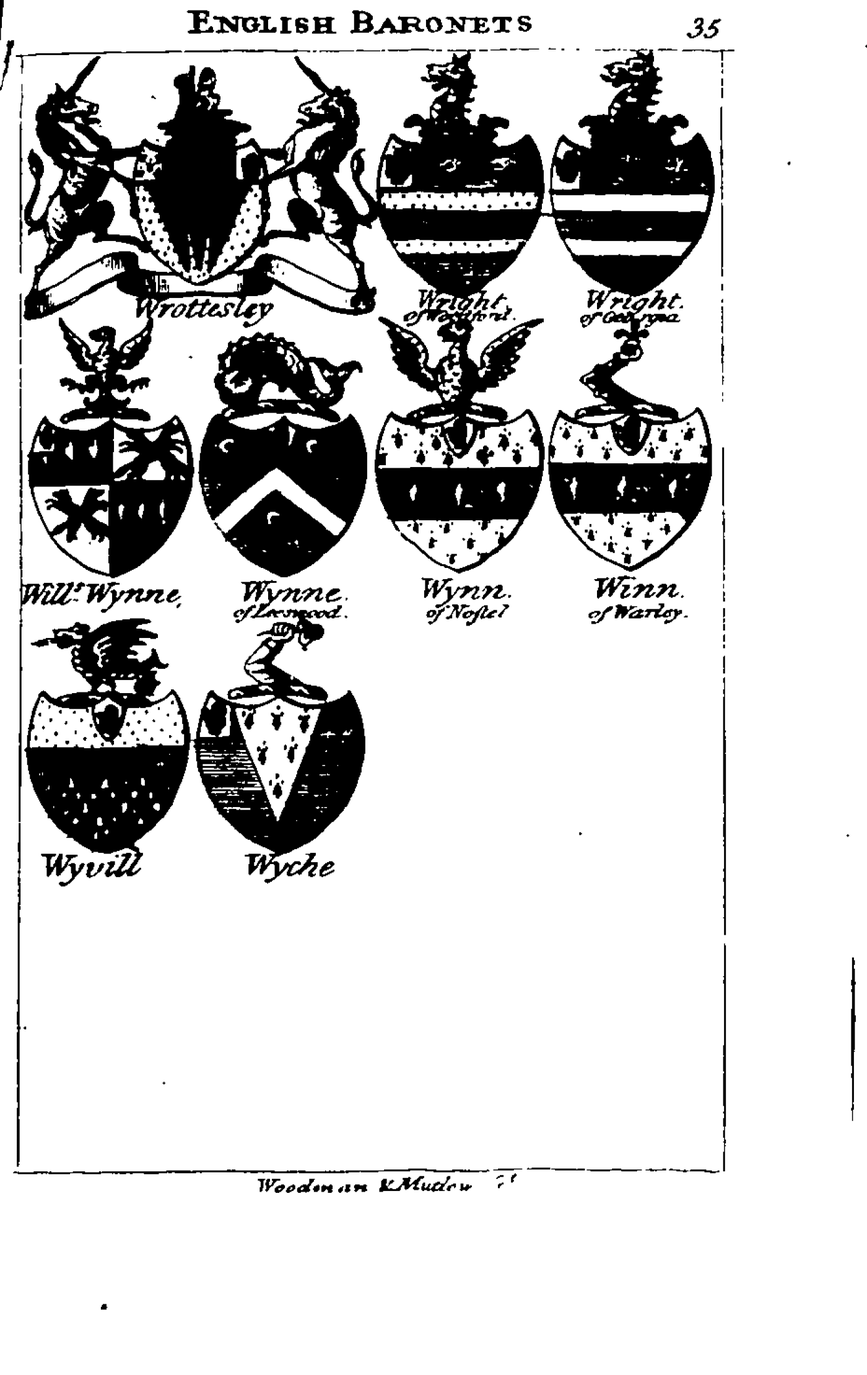coat_of_arms: (26, 59, 375, 323)
